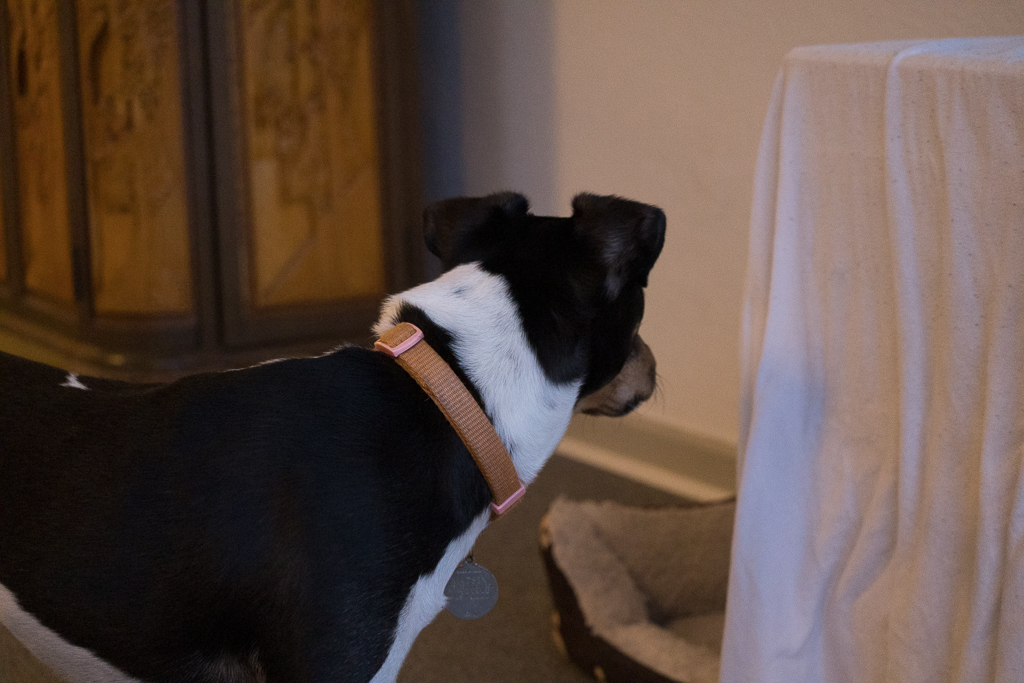Dog: (0, 181, 675, 683)
